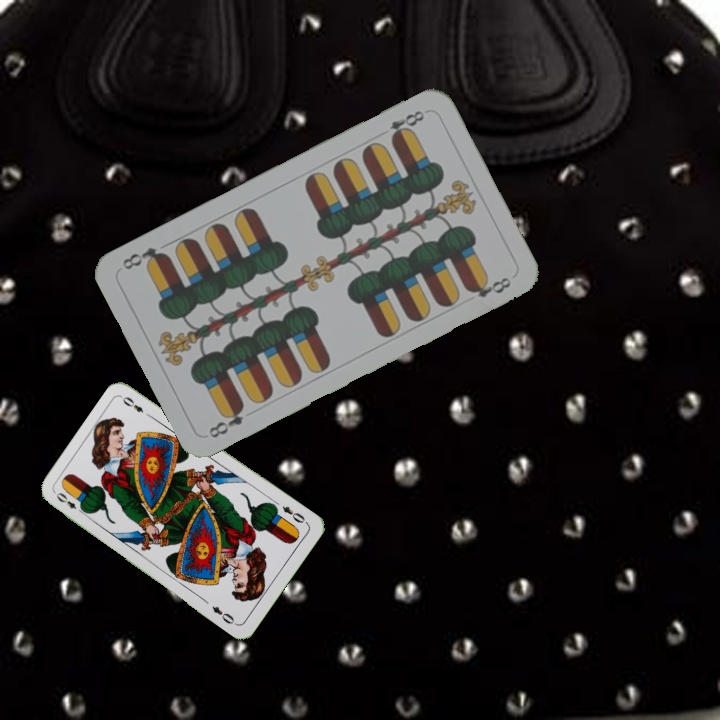E8: (204, 399, 247, 441), (385, 106, 430, 144)
EO: (52, 488, 88, 517), (278, 502, 310, 527)
